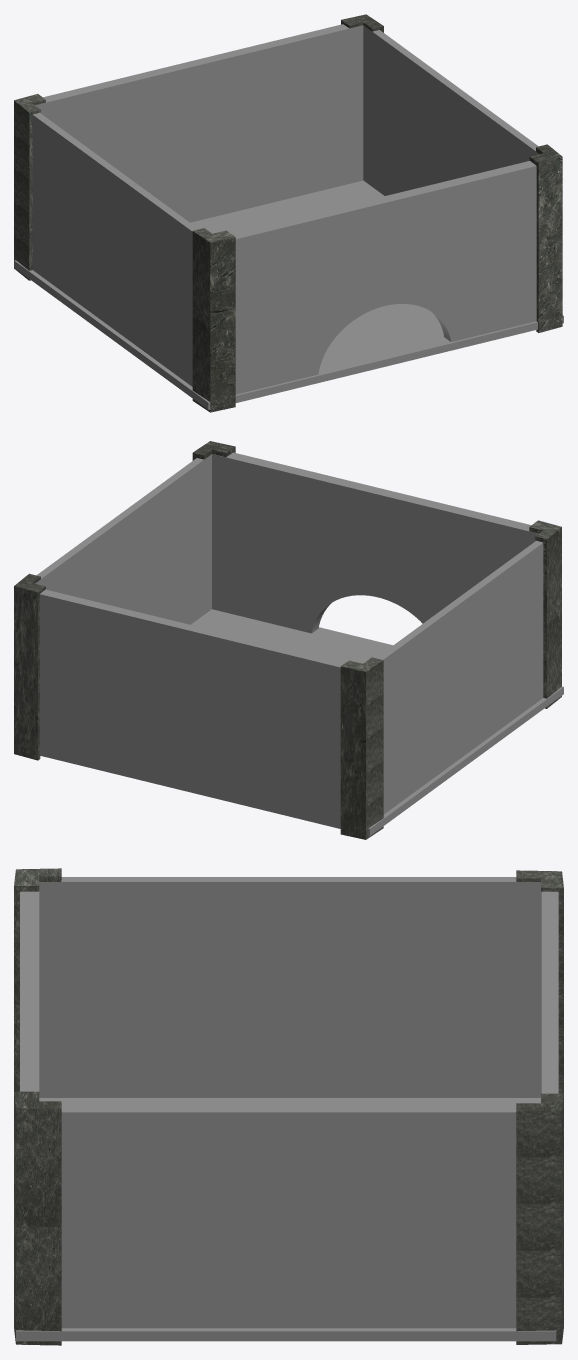
Rendered from Model_Basseng.FBX.
3 views of the same model, one above another, from view 1: azimuth 30°, elevation 25°; view 2: azimuth 150°, elevation 25°; view 3: azimuth 270°, elevation 25° (orthographic). The views are drawn at different scales.
Visible parts, largest first — view 1: Cylinder001, vannbasseng, Box003; view 2: Cylinder001, vannbasseng, Box003; view 3: Cylinder001, vannbasseng, Box003.
Boxes of the visible parts, box(x1,y1,x2,y2) form: Cylinder001: box(32, 24, 538, 394); vannbasseng: box(14, 14, 562, 412); Box003: box(14, 180, 563, 409); Cylinder001: box(35, 452, 543, 828); vannbasseng: box(14, 441, 561, 839); Box003: box(40, 609, 563, 835); Cylinder001: box(20, 877, 558, 1328); vannbasseng: box(14, 868, 563, 1345); Box003: box(16, 1098, 556, 1341).
Size of the model in its own units: 60.65 by 27.71 by 58.42.
Materials: 2 (1 with a texture image).
